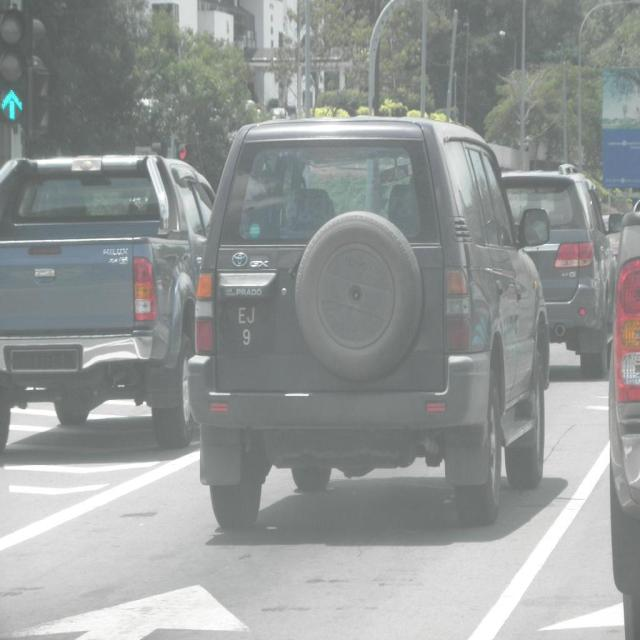car: (186, 114, 547, 530)
